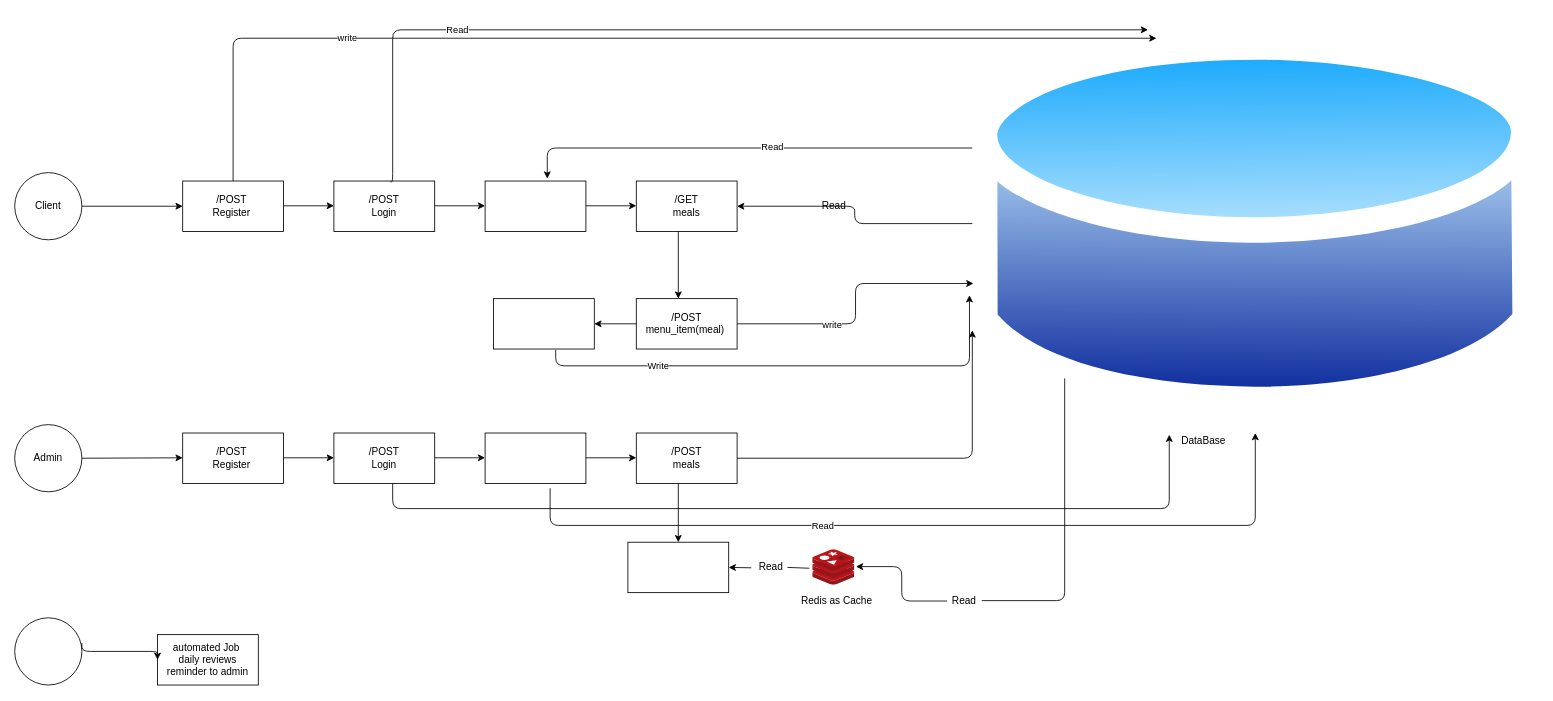
Some shapes in this 1553 by 701 pixel diagram are drawn without their labels. Each missing label, with the centre of its shape:
/GET menu: (535,205)
/GET Top Reviews: (678,567)
/POST add_reviews_for Meals: (543,323)
/POST menu: (535,457)
System: (48,651)
